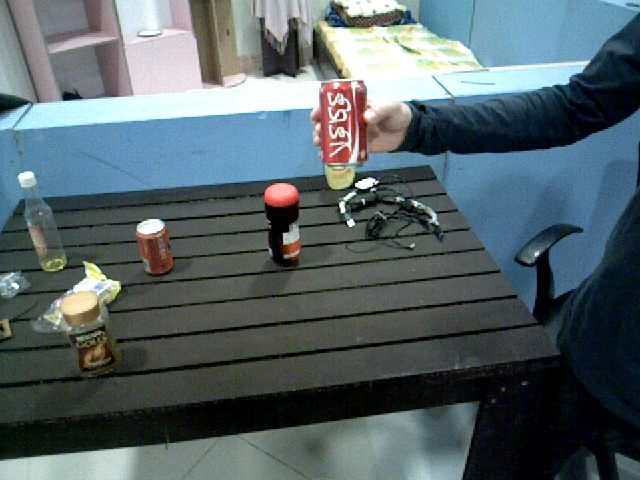coca: (321, 79, 371, 169)
coffee: (60, 293, 124, 379)
cream: (262, 180, 306, 267)
fanta: (134, 219, 175, 278)
